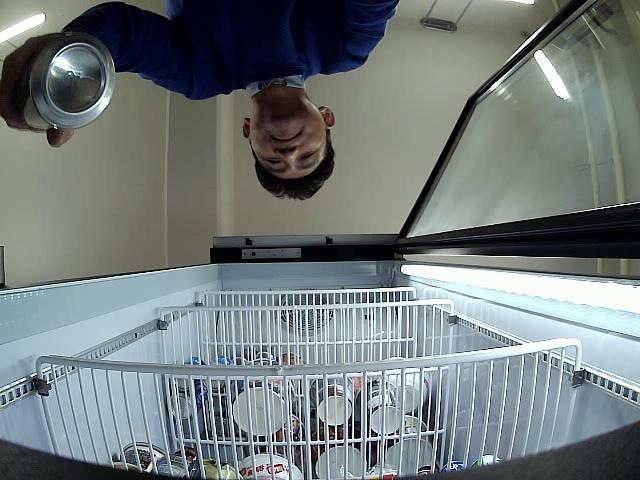00_hand: (1, 32, 75, 147)
12_chilsungCider: (17, 34, 117, 130)
